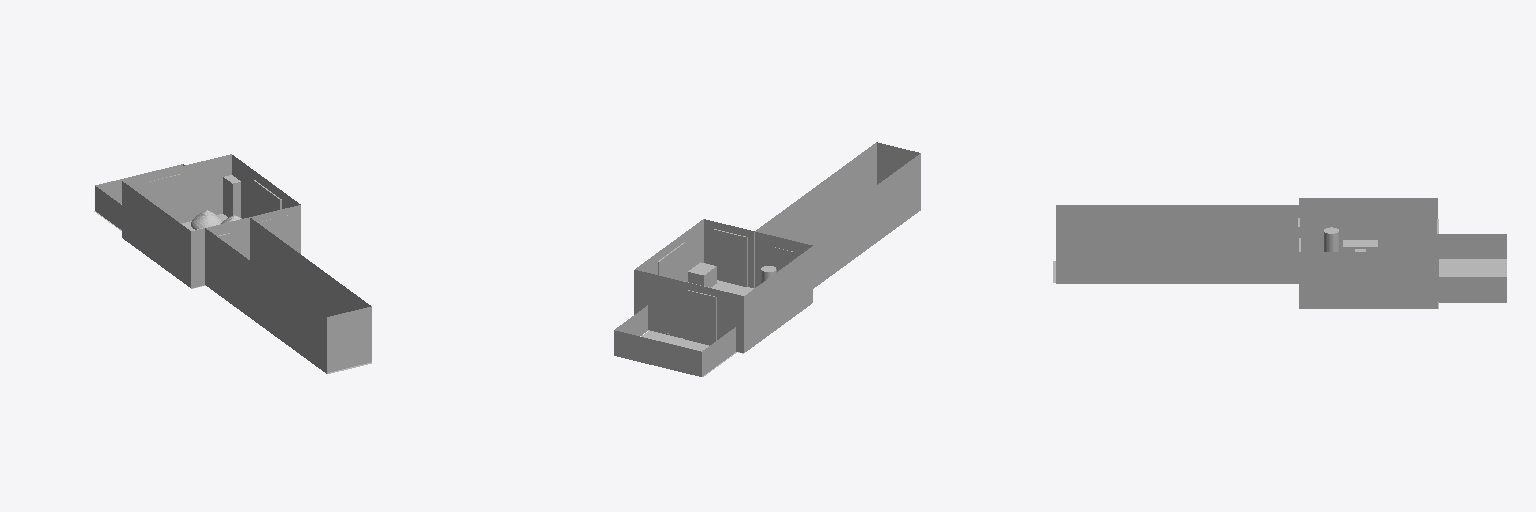
File: blockoutroomv1.obj
3 views of the same model, side by side, from view 1: azimuth 30°, elevation 25°; view 2: azimuth 150°, elevation 25°; view 3: azimuth 270°, elevation 25° (orthographic).
Visible parts, largest first — view 1: walls.001, walls, walls.002, Cube.006, Cube.004, Cube.007, closet; view 2: walls.001, walls, walls.002, closet, Cube.006, Cube.007, Cube.002, floor; view 3: walls.001, walls, walls.002, Cube.007, floor.
Boxes of the visible parts, x1,y1,x2,y2 form: walls.001: [205, 218, 371, 373]; walls: [122, 154, 300, 288]; walls.002: [95, 164, 184, 229]; Cube.006: [150, 174, 180, 223]; Cube.004: [223, 175, 240, 217]; Cube.007: [254, 180, 281, 215]; closet: [258, 215, 290, 246]; walls.001: [754, 142, 920, 288]; walls: [634, 219, 812, 352]; walls.002: [614, 305, 735, 376]; closet: [713, 229, 747, 286]; Cube.006: [685, 290, 716, 345]; Cube.007: [658, 242, 685, 281]; Cube.002: [688, 262, 716, 287]; floor: [641, 330, 736, 376]; walls.001: [1056, 205, 1299, 283]; walls: [1299, 198, 1437, 308]; walls.002: [1438, 234, 1506, 302]; Cube.007: [1338, 261, 1390, 302]; floor: [1439, 259, 1506, 276].
Bounding box in the file's own units: 496 × 266 × 1773.